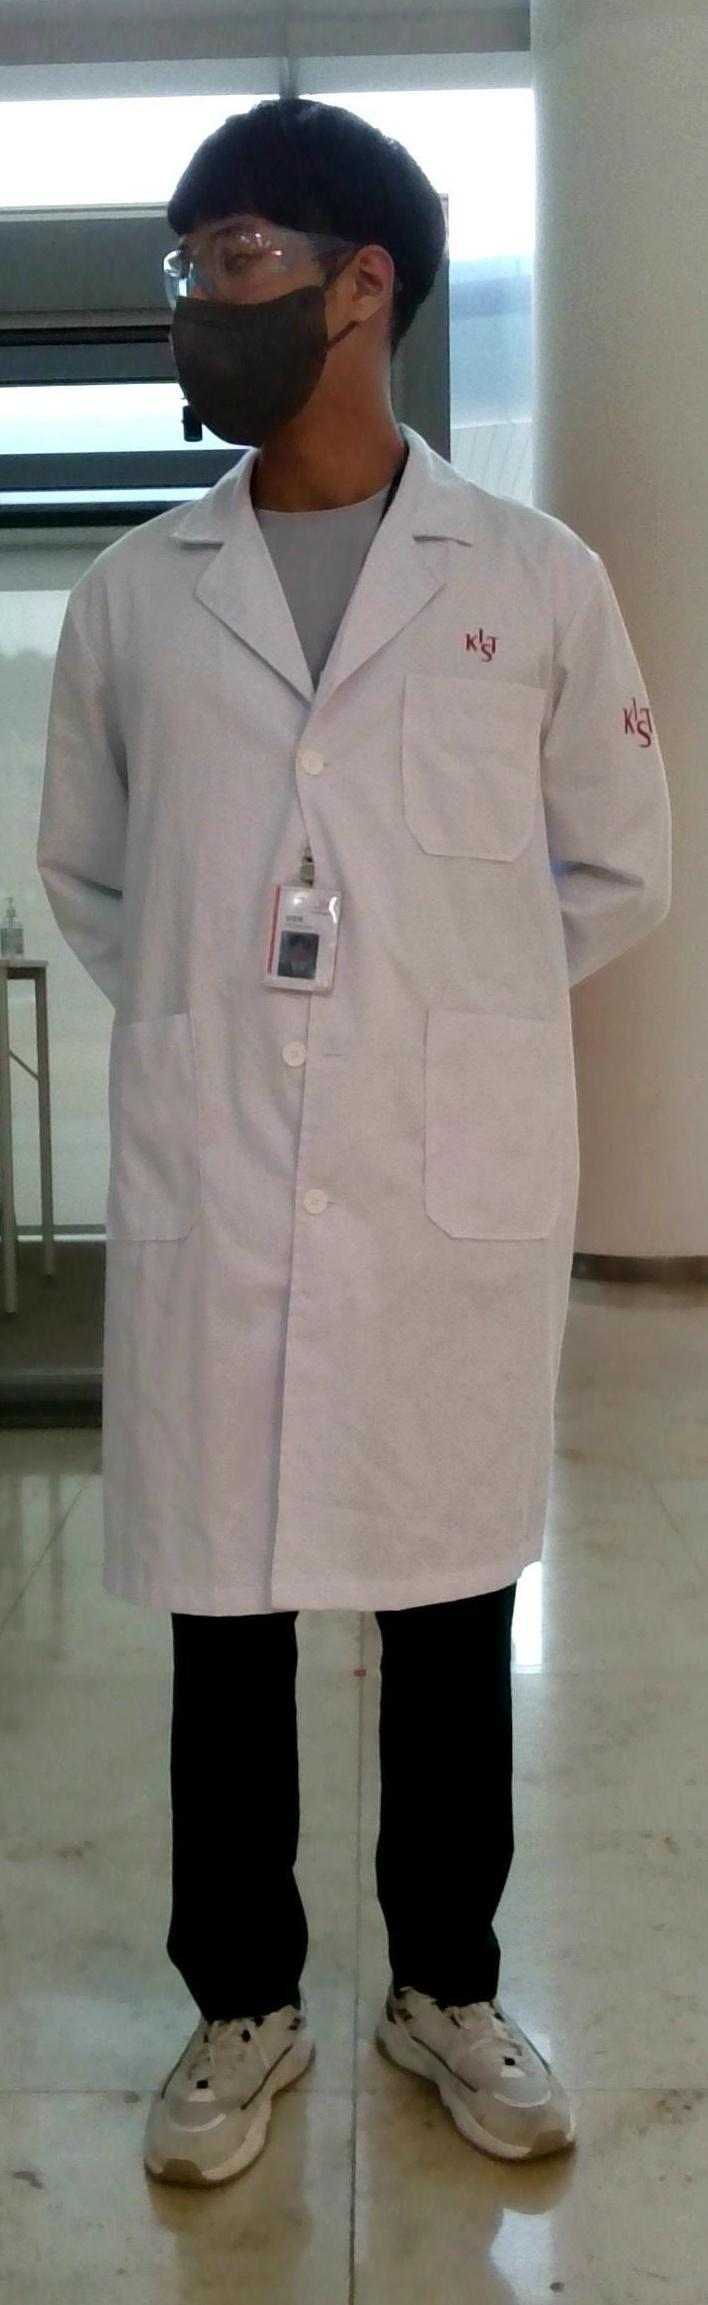lab_coat: (41, 476, 683, 1586)
